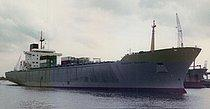Ship: (5, 10, 207, 103)
